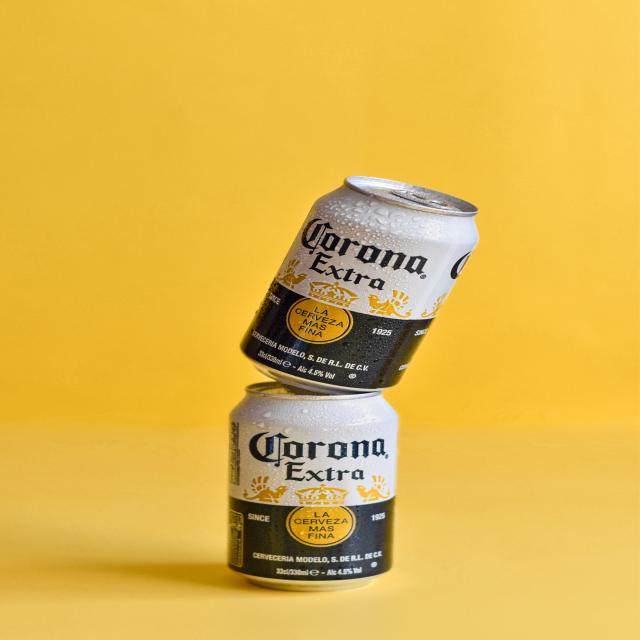can: (240, 175, 481, 395), (228, 381, 400, 593)
